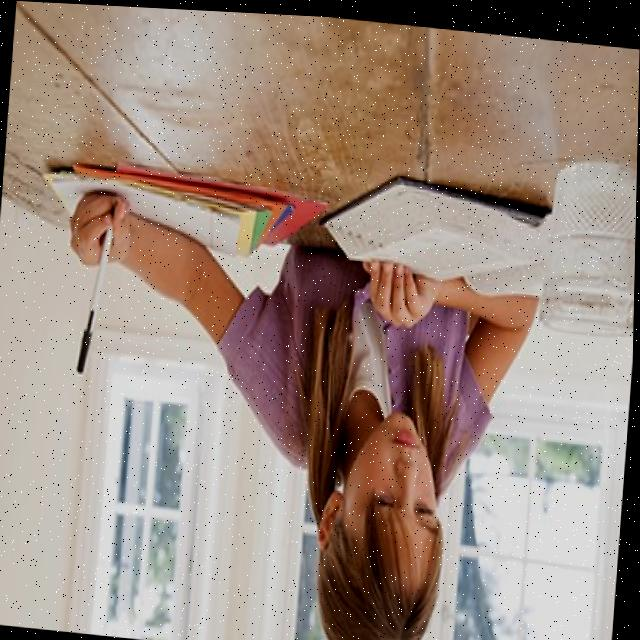studying-person: (8, 128, 558, 640)
